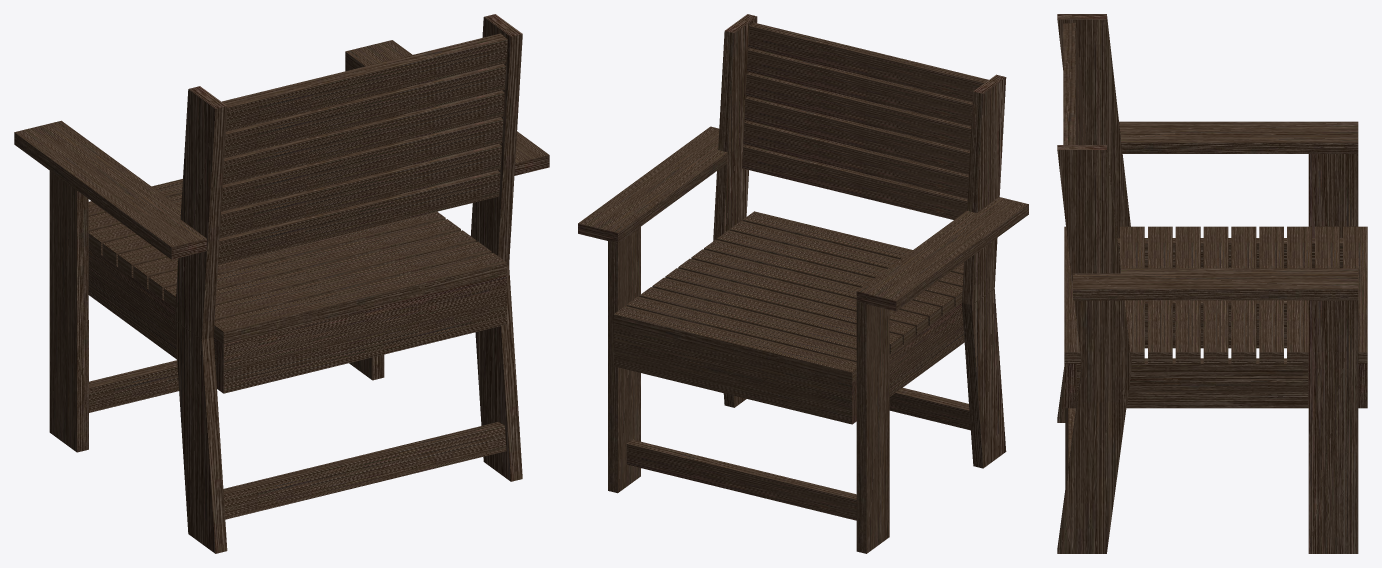
Rendered from patio_chair.glb.
The picture shows the model from 3 angles, left to right: view 1: azimuth 30°, elevation 25°; view 2: azimuth 150°, elevation 25°; view 3: azimuth 270°, elevation 25°; orthographic projection. The views are drawn at different scales.
Parts seen in each view (by area): view 1: dock; view 2: dock; view 3: dock.
Part boxes in pixels (x1=…): dock: x1=14, y1=14, x2=549, y2=553; dock: x1=578, y1=14, x2=1028, y2=553; dock: x1=1057, y1=14, x2=1367, y2=553.
Size of the model in its own units: 0.8131 by 0.9144 by 0.6366.
Materials: 1 (1 with a texture image).
